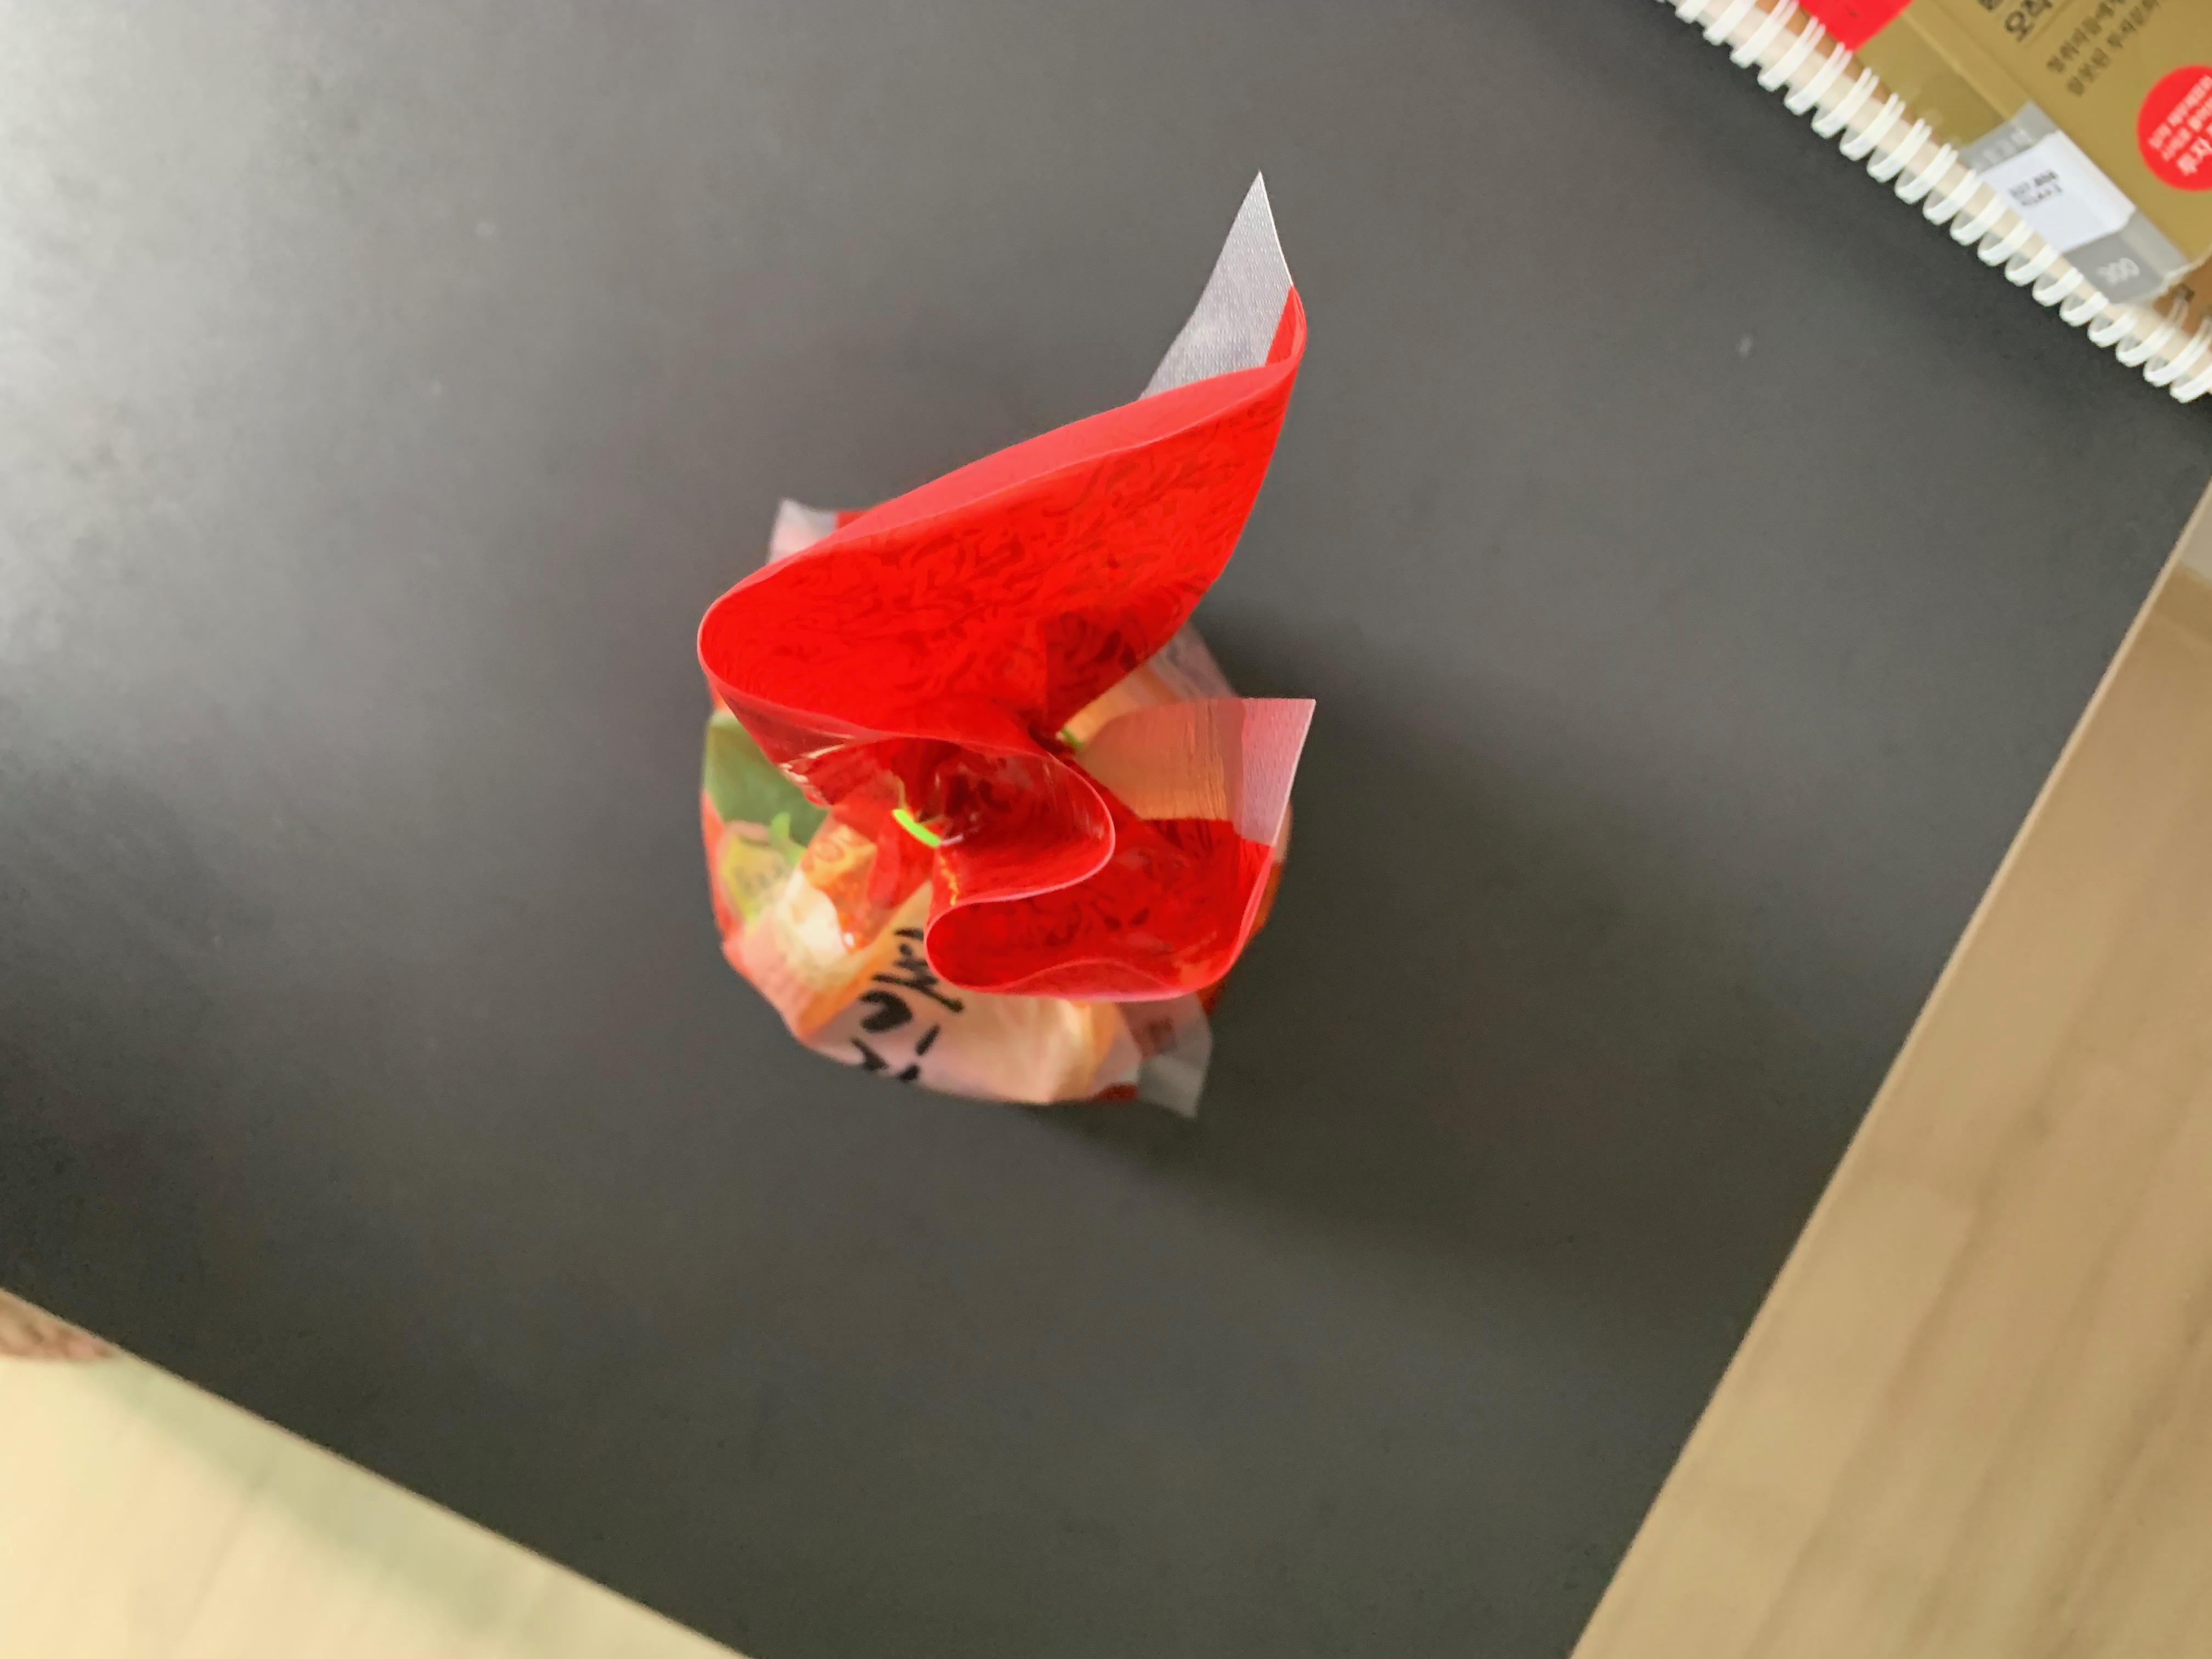kimchi: (695, 354, 1320, 1098)
